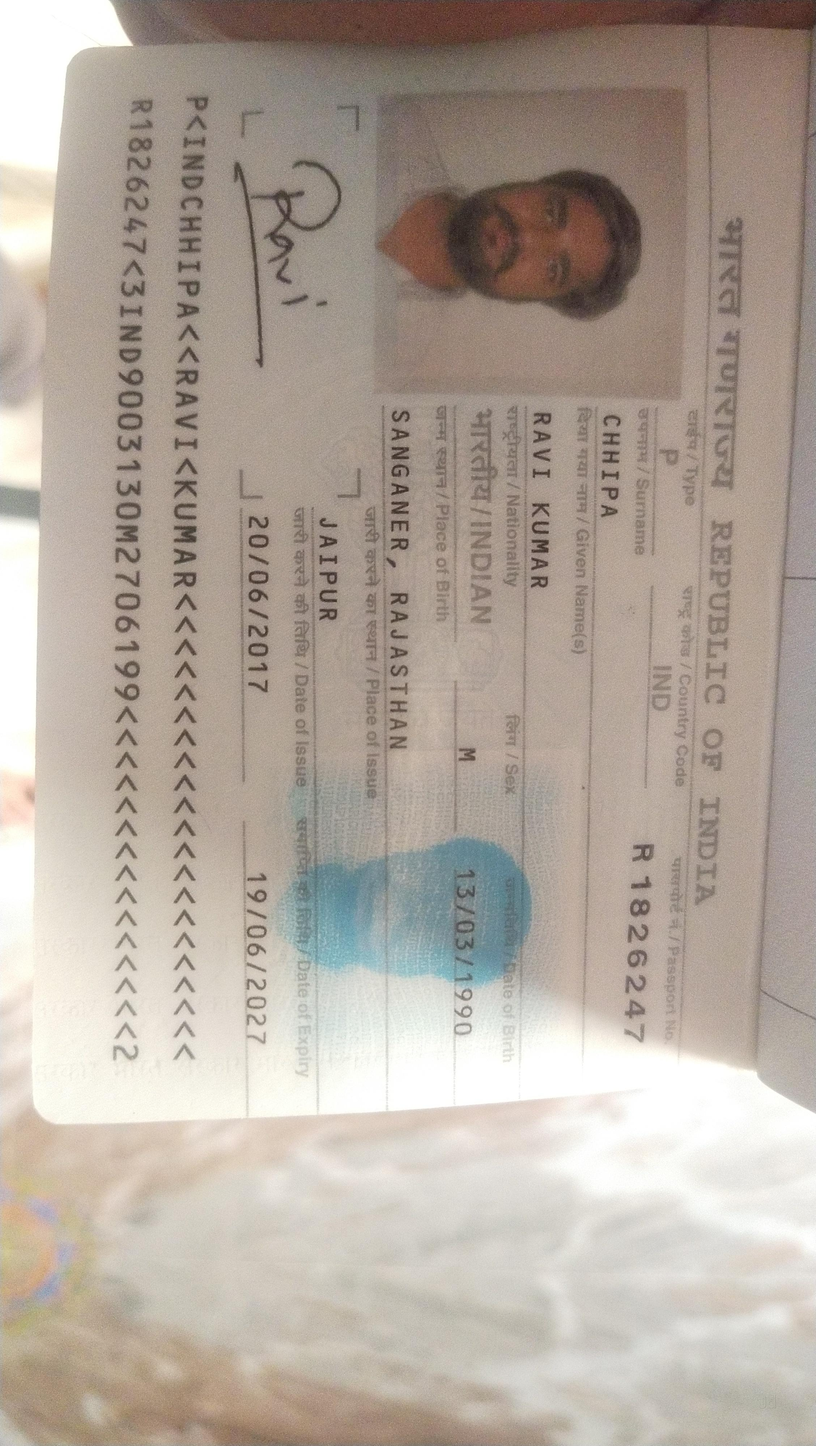DOB: (441, 851, 483, 1051)
Surname: (597, 406, 633, 536)
country_code: (647, 646, 678, 723)
date_of_expiry: (239, 862, 282, 1053)
date_of_issue: (238, 509, 279, 698)
details: (102, 84, 210, 1076)
name: (530, 411, 556, 598)
nationality: (464, 398, 502, 639)
passport_no: (622, 831, 658, 1054)
photo: (374, 95, 681, 381)
place_of_birth: (381, 402, 422, 751)
place_of_issue: (311, 504, 350, 627)
sex: (455, 728, 486, 789)
sign: (238, 139, 345, 376)
type: (655, 435, 683, 477)
